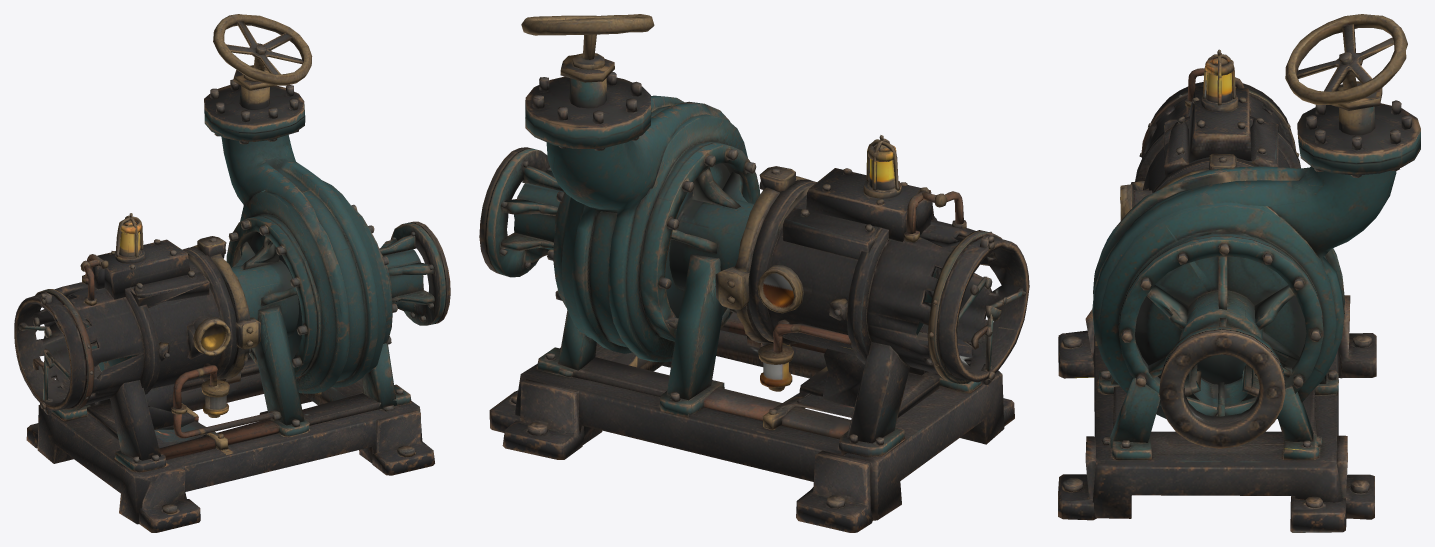
File: Pump.glb
The picture shows the model from 3 angles, left to right: view 1: azimuth 30°, elevation 25°; view 2: azimuth 150°, elevation 25°; view 3: azimuth 270°, elevation 25°; orthographic projection. The views are drawn at different scales.
Size of the model in its own units: 1 by 0.9104 by 0.6623.
Materials: 1 (1 with a texture image).
